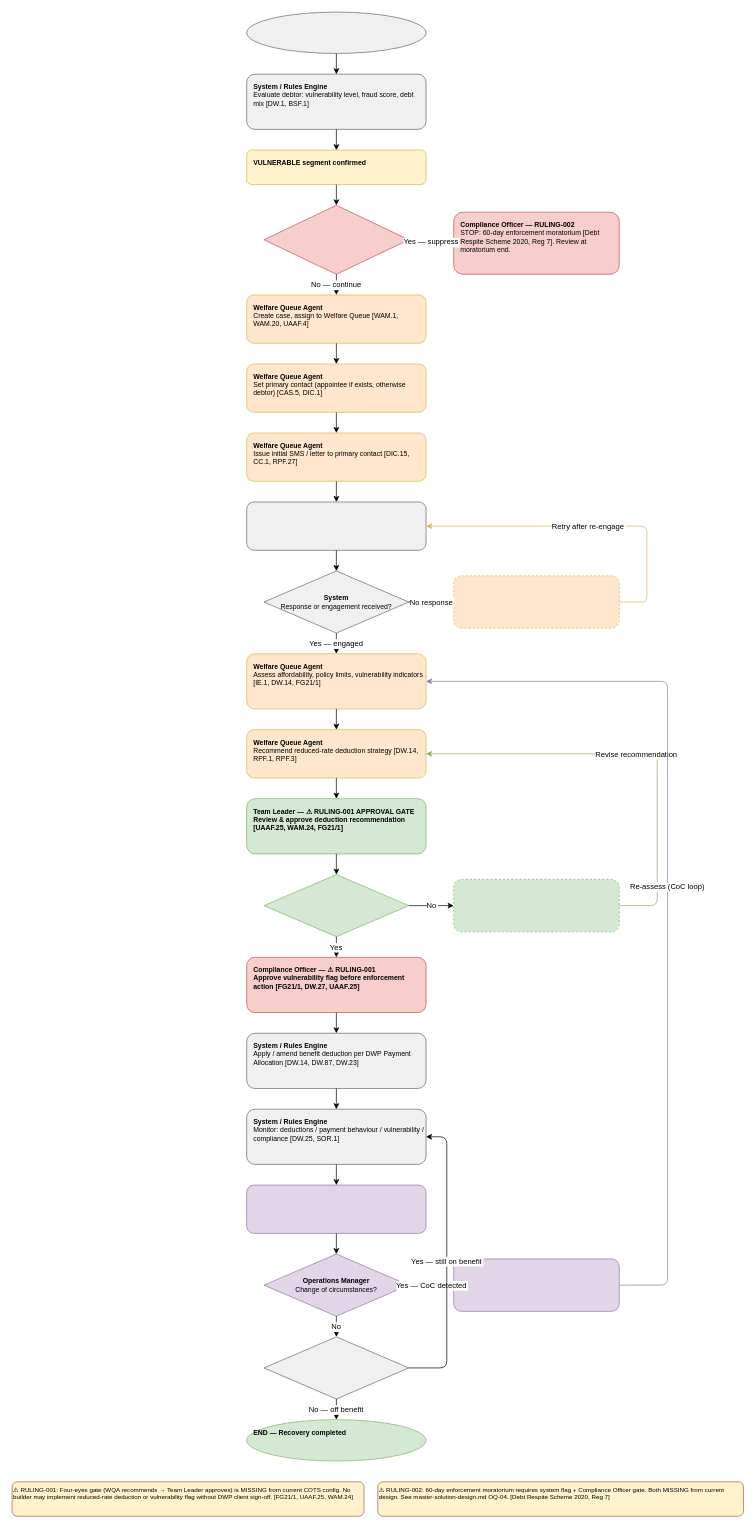
The diagram is 756 pixels wide and 1528 high, and some of its shapes have lost their labels. The box of each missing label's shape, as (x1, y1, x2, y2) in pixels:
Compliance Officer ⚠ Breathing space invoked? [RULING-002]: (263, 205, 409, 274)
Operations Manager Escalate / re-triage to WQA for reassessment [WAM.24, DW.25]: (453, 1258, 619, 1311)
Operations Manager Monitor performance dashboard; review alerts [MIR.1, WAM.28]: (246, 1184, 426, 1233)
START Debtor selected from candidate list: (246, 11, 426, 53)
System / Rules Engine Wait response window (configurable timer) [DW.3, DW.6]: (246, 501, 426, 550)
System Still on benefit? [DWP data feed, SOR.1]: (263, 1336, 409, 1399)
Team Leader Deduction suitable within policy?: (263, 874, 409, 937)
Team Leader Refer back to WQA for revised recommendation [WAM.24, UAAF.25]: (453, 879, 619, 932)
Welfare Queue Agent Issue reminder / re-engage strategy [DIC.29, CC.1, DW.6]: (453, 575, 619, 628)
